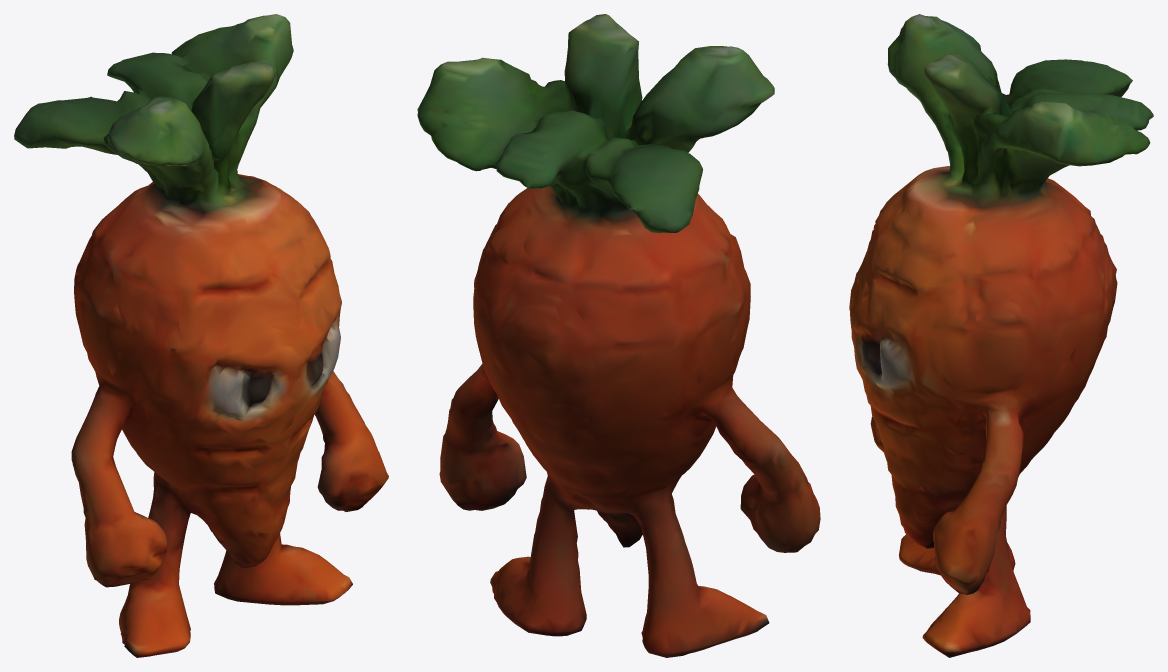
Rendered from carrot.glb.
3 views of the same model, side by side, from view 1: azimuth 30°, elevation 25°; view 2: azimuth 150°, elevation 25°; view 3: azimuth 270°, elevation 25° (orthographic). The views are drawn at different scales.
Parts seen in each view (by area): view 1: carrot; view 2: carrot; view 3: carrot.
Boxes of the visible parts, box(x1,y1,x2,y2) form: carrot: box(14, 14, 388, 657); carrot: box(417, 14, 820, 657); carrot: box(849, 14, 1153, 657).
Size of the model in its own units: 0.7237 by 1.2 by 0.5988.
